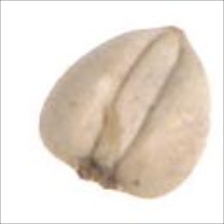L5: (87, 30, 183, 171), (70, 157, 126, 193)
L6: (38, 24, 213, 200)
